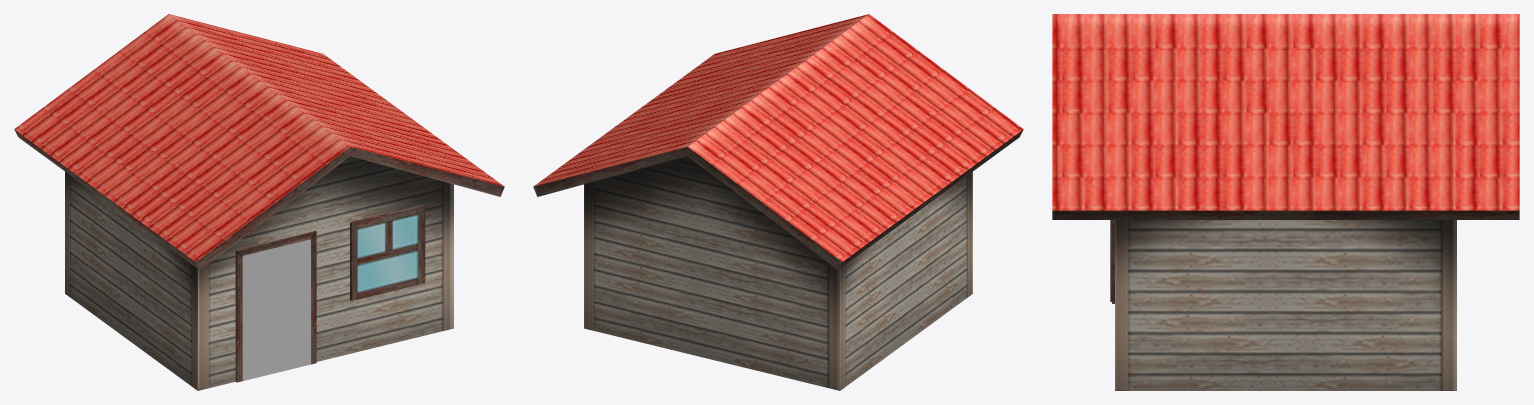
Rendered from house.fbx.
The picture shows the model from 3 angles, left to right: view 1: azimuth 30°, elevation 25°; view 2: azimuth 150°, elevation 25°; view 3: azimuth 270°, elevation 25°; orthographic projection. The views are drawn at different scales.
Visible parts, largest first — view 1: house1_geo, door_geo; view 2: house1_geo; view 3: house1_geo.
Boxes of the visible parts, box(x1,y1,x2,y2) form: house1_geo: box(14, 14, 504, 390); door_geo: box(242, 239, 310, 380); house1_geo: box(533, 14, 1023, 390); house1_geo: box(1052, 14, 1519, 390).
Bounding box in the file's own units: 0.0627 × 0.0447 × 0.0638.
